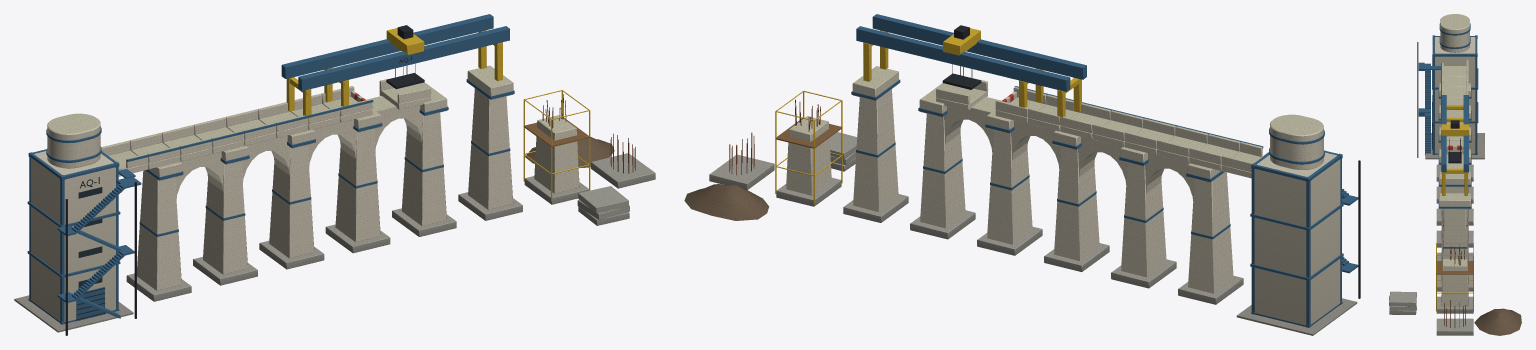
File: landmark_aqueduct.glb
3 views of the same model, side by side, from view 1: azimuth 30°, elevation 25°; view 2: azimuth 150°, elevation 25°; view 3: azimuth 270°, elevation 25° (orthographic). The views are drawn at different scales.
Visible parts, largest first — view 1: landmark_aqueduct; view 2: landmark_aqueduct; view 3: landmark_aqueduct.
Boxes of the visible parts, x1,y1,x2,y2 form: landmark_aqueduct: (14,14,655,335); landmark_aqueduct: (684,14,1360,335); landmark_aqueduct: (1389,14,1521,335).
Size of what is drawn, in the model's own units: 129 by 40.25 by 35.7.
13 materials, 13 textured.
